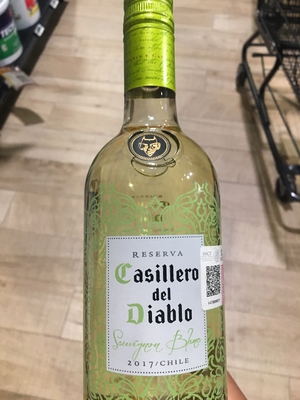casillero del diablo sauvignon blanc: (82, 12, 224, 400)
